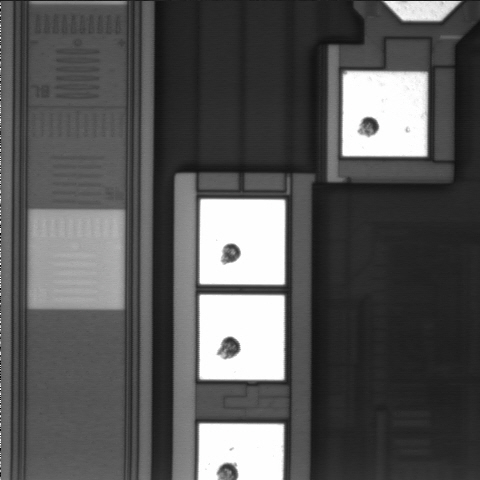pad: (200, 199, 285, 285), (199, 295, 284, 380), (342, 72, 427, 156)
